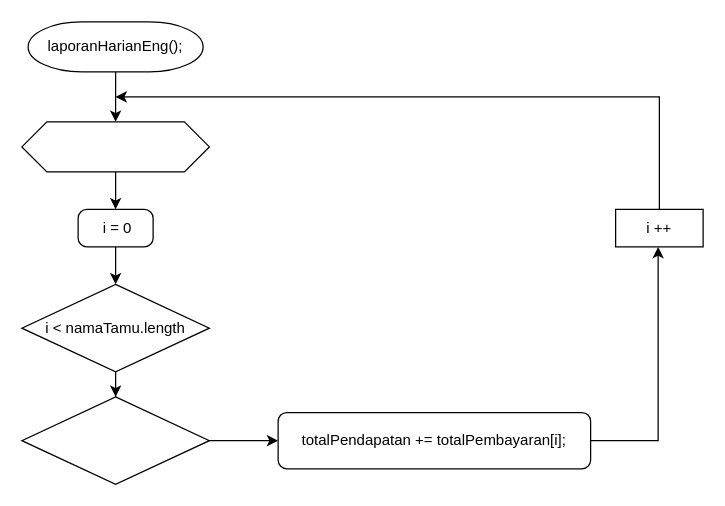
This 725x506 diagram has some shape labels left out. The centre of each missing label's shape, as x and y in pixels:
"long totalPendapatan = 0" belongs at pixel 115 146.
"namaTamu[i] == null" belongs at pixel 115 440.
